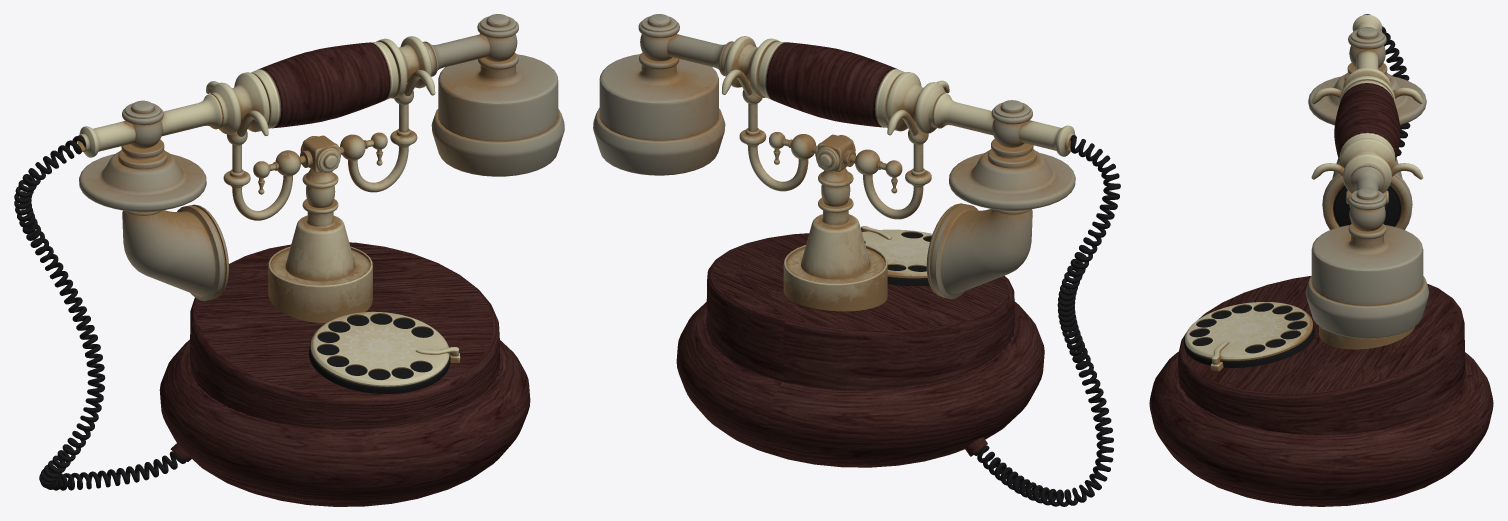
The model's file is 3D_phone_1.fbx.
3 views of the same model, side by side, from view 1: azimuth 30°, elevation 25°; view 2: azimuth 150°, elevation 25°; view 3: azimuth 270°, elevation 25° (orthographic). The views are drawn at different scales.
Parts seen in each view (by area): view 1: Phone_1; view 2: Phone_1; view 3: Phone_1.
Part boxes in pixels (x1,y1,x2,y2): Phone_1: (14, 14, 564, 506); Phone_1: (593, 14, 1120, 506); Phone_1: (1149, 14, 1493, 506).
Bounding box in the file's own units: 25.45 × 17.98 × 15.48.
